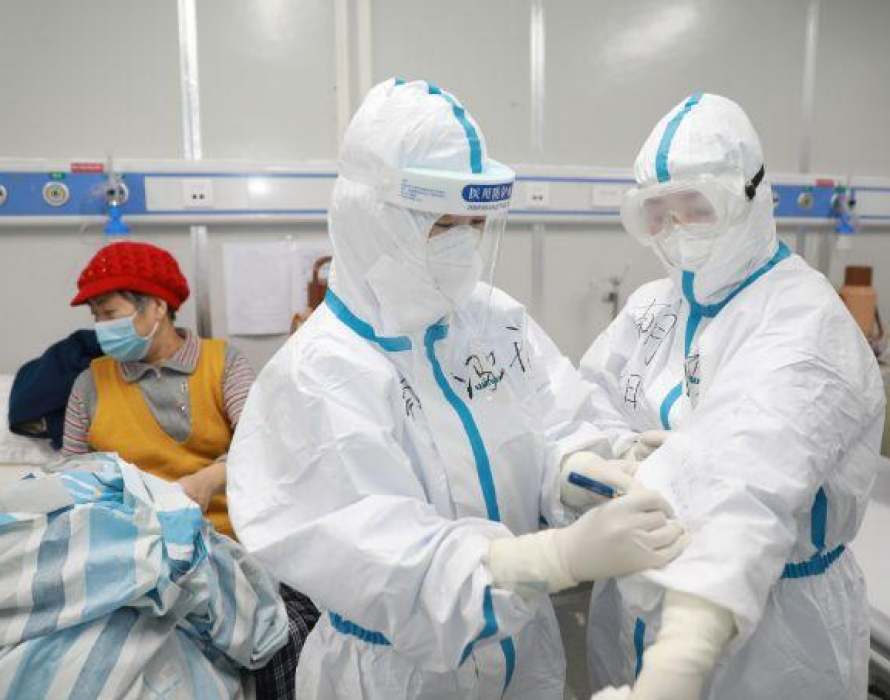Coverall: (226, 75, 624, 700), (567, 82, 887, 700)
Face_Shield: (380, 161, 529, 342)
Gloves: (482, 488, 690, 611), (631, 590, 749, 700)
Goggles: (613, 166, 759, 249)
Mask: (654, 194, 714, 273)
with_mask: (430, 212, 490, 308), (90, 298, 157, 364)
